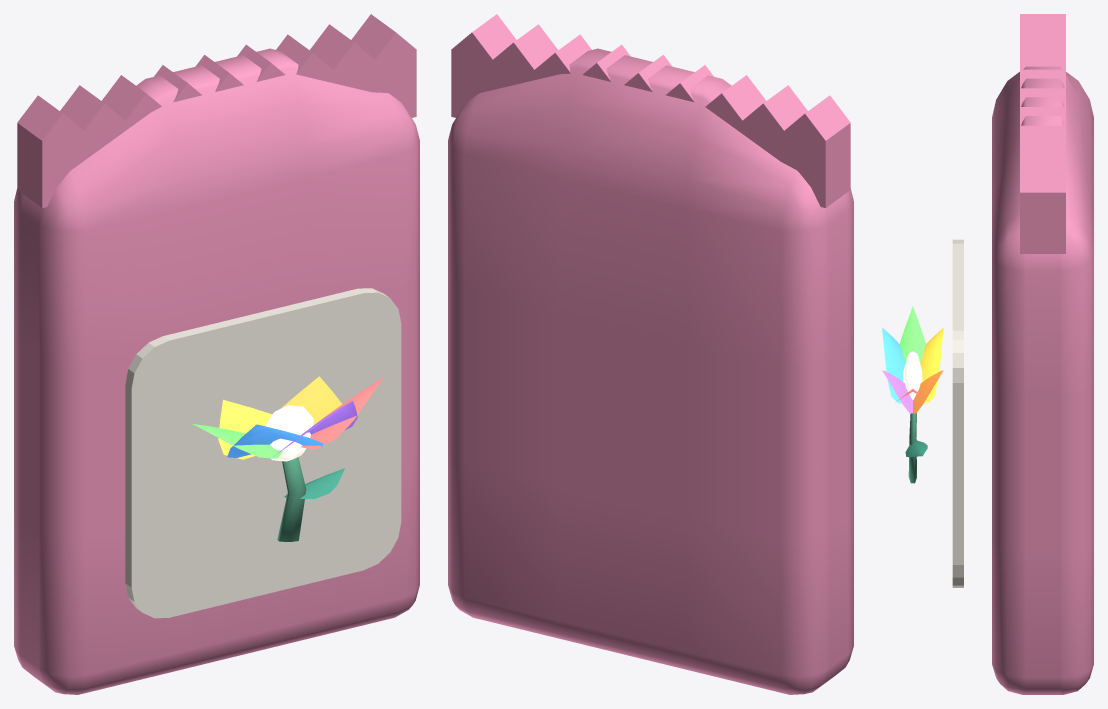
The model's file is semente-arco-iris-de-petala.glb.
3 renders of one model, left to right at view 1: azimuth 30°, elevation 25°; view 2: azimuth 150°, elevation 25°; view 3: azimuth 270°, elevation 25°, orthographic. The views are drawn at different scales.
Parts seen in each view (by area): view 1: semente-arco-iris-de-petala; view 2: semente-arco-iris-de-petala; view 3: semente-arco-iris-de-petala.
Boxes of the visible parts, bbox=[...] form: semente-arco-iris-de-petala: bbox=[14, 14, 419, 694]; semente-arco-iris-de-petala: bbox=[448, 14, 853, 694]; semente-arco-iris-de-petala: bbox=[882, 14, 1093, 694].
Size of the model in its own units: 0.14 by 0.208 by 0.0749.
